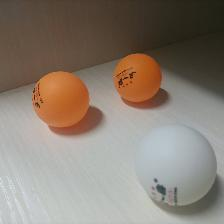WhiteBall: (133, 124, 215, 206)
YellowBall: (31, 71, 89, 127), (112, 53, 161, 102)
